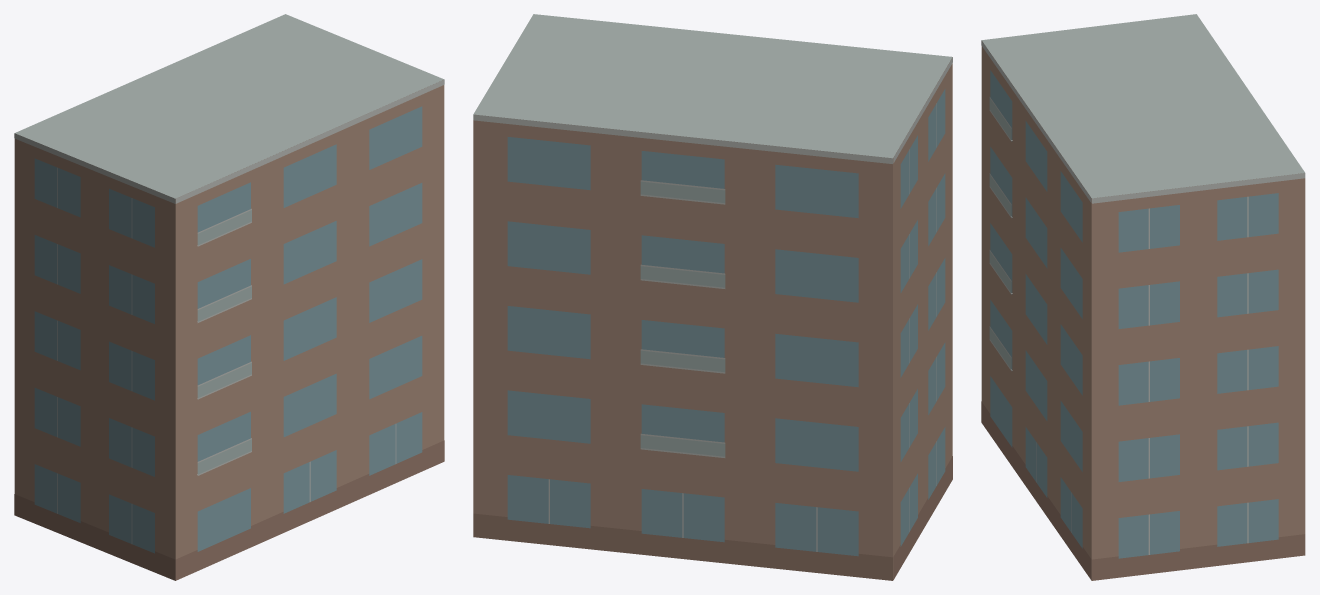
The model's file is survey-upis-32709727.glb.
3 views of the same model, side by side, from view 1: azimuth 30°, elevation 25°; view 2: azimuth 150°, elevation 25°; view 3: azimuth 270°, elevation 25° (orthographic). The views are drawn at different scales.
Parts seen in each view (by area): view 1: survey-upis-32709727.tmp; view 2: survey-upis-32709727.tmp; view 3: survey-upis-32709727.tmp.
Part boxes in pixels (bbox=[...]): survey-upis-32709727.tmp: bbox=[14, 14, 444, 580]; survey-upis-32709727.tmp: bbox=[473, 14, 952, 580]; survey-upis-32709727.tmp: bbox=[981, 14, 1305, 580].
Bounding box in the file's own units: 18.1 × 17.5 × 13.44.
